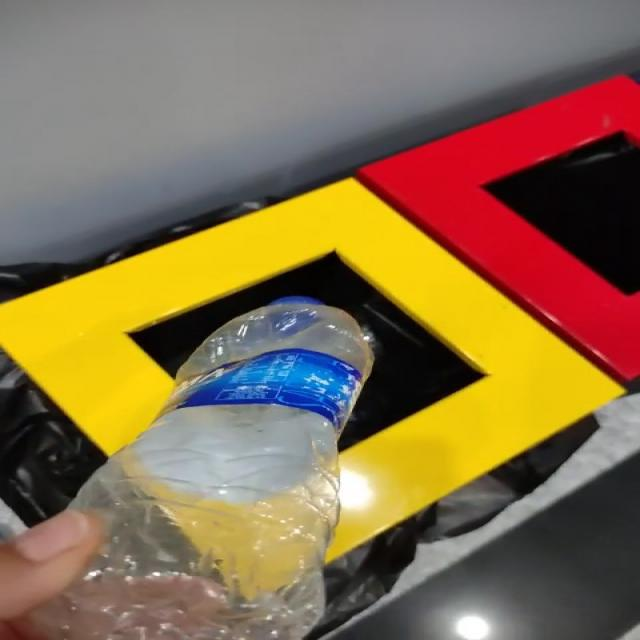plastic: (31, 299, 373, 640)
